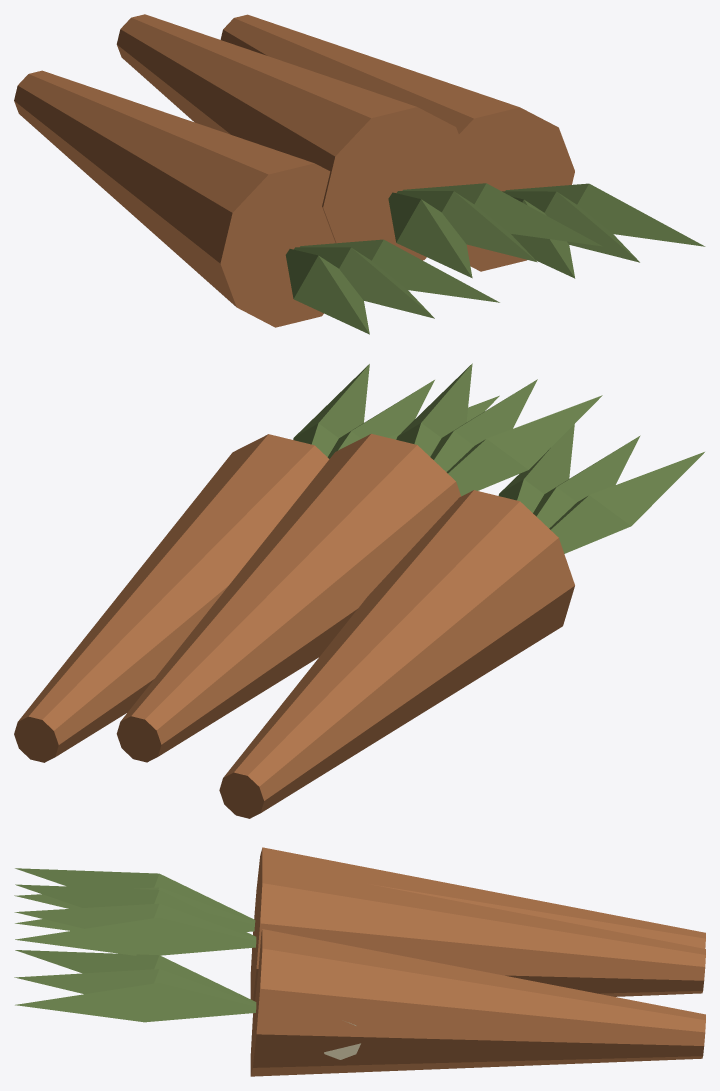
The model's file is AE_Item_RootHarvest.fbx.
3 renders of one model, top to bottom at view 1: azimuth 30°, elevation 25°; view 2: azimuth 150°, elevation 25°; view 3: azimuth 270°, elevation 25°, orthographic. The views are drawn at different scales.
Visible parts, largest first — view 1: AE_Item_RootHarvest; view 2: AE_Item_RootHarvest; view 3: AE_Item_RootHarvest.
Boxes of the visible parts, x1=… form: AE_Item_RootHarvest: x1=14, y1=14, x2=705, y2=334; AE_Item_RootHarvest: x1=14, y1=363, x2=704, y2=818; AE_Item_RootHarvest: x1=14, y1=847, x2=705, y2=1076.
Bounding box in the file's own units: 0.19 × 0.0918 × 0.3709.
